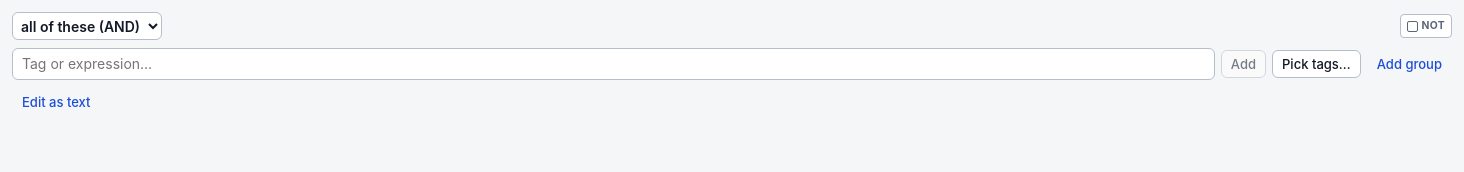
it: the add field speaks the filter's grammar › lets an expression typed into the empty builder bring its operator along
This screenshot has width=1464, height=172.
Type "Payments OR Cart" into the field named "Add a tag or pattern" at (613, 64), box [12,48,1215,80]
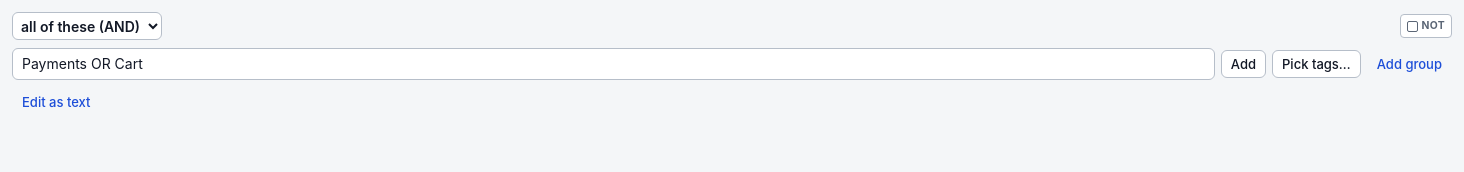
Submit the form named "Add a tag or pattern", box [12,48,1452,80]
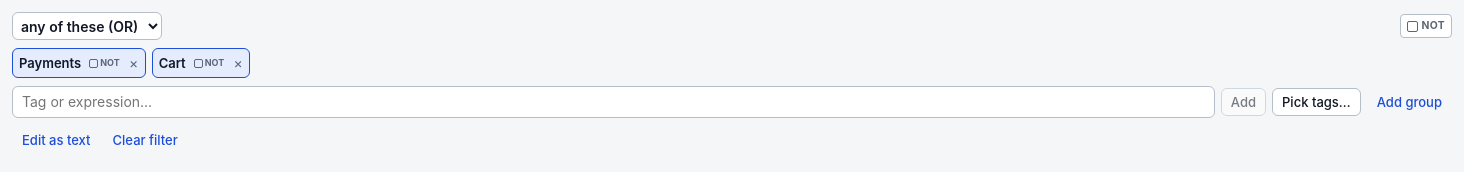
Expected: the dropdown named "How the rules of this group combine" shows "any of these (OR)", [12,12,162,40]
